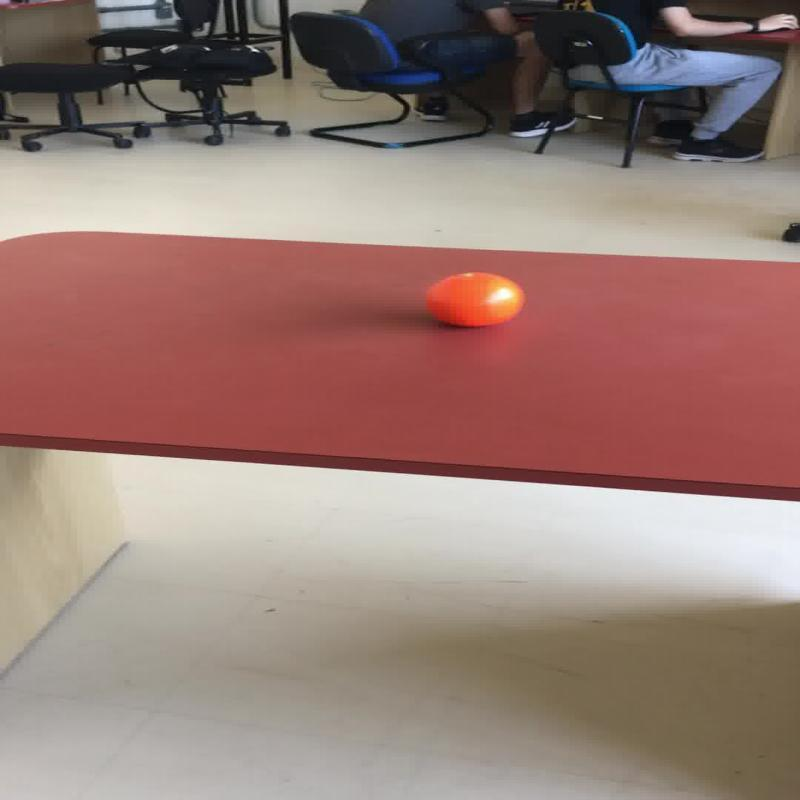orange: (424, 271, 524, 327)
